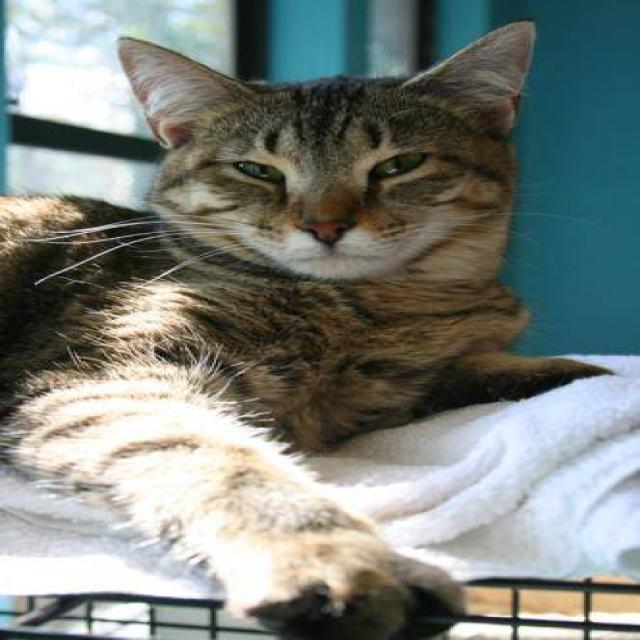cat: (0, 18, 615, 639)
